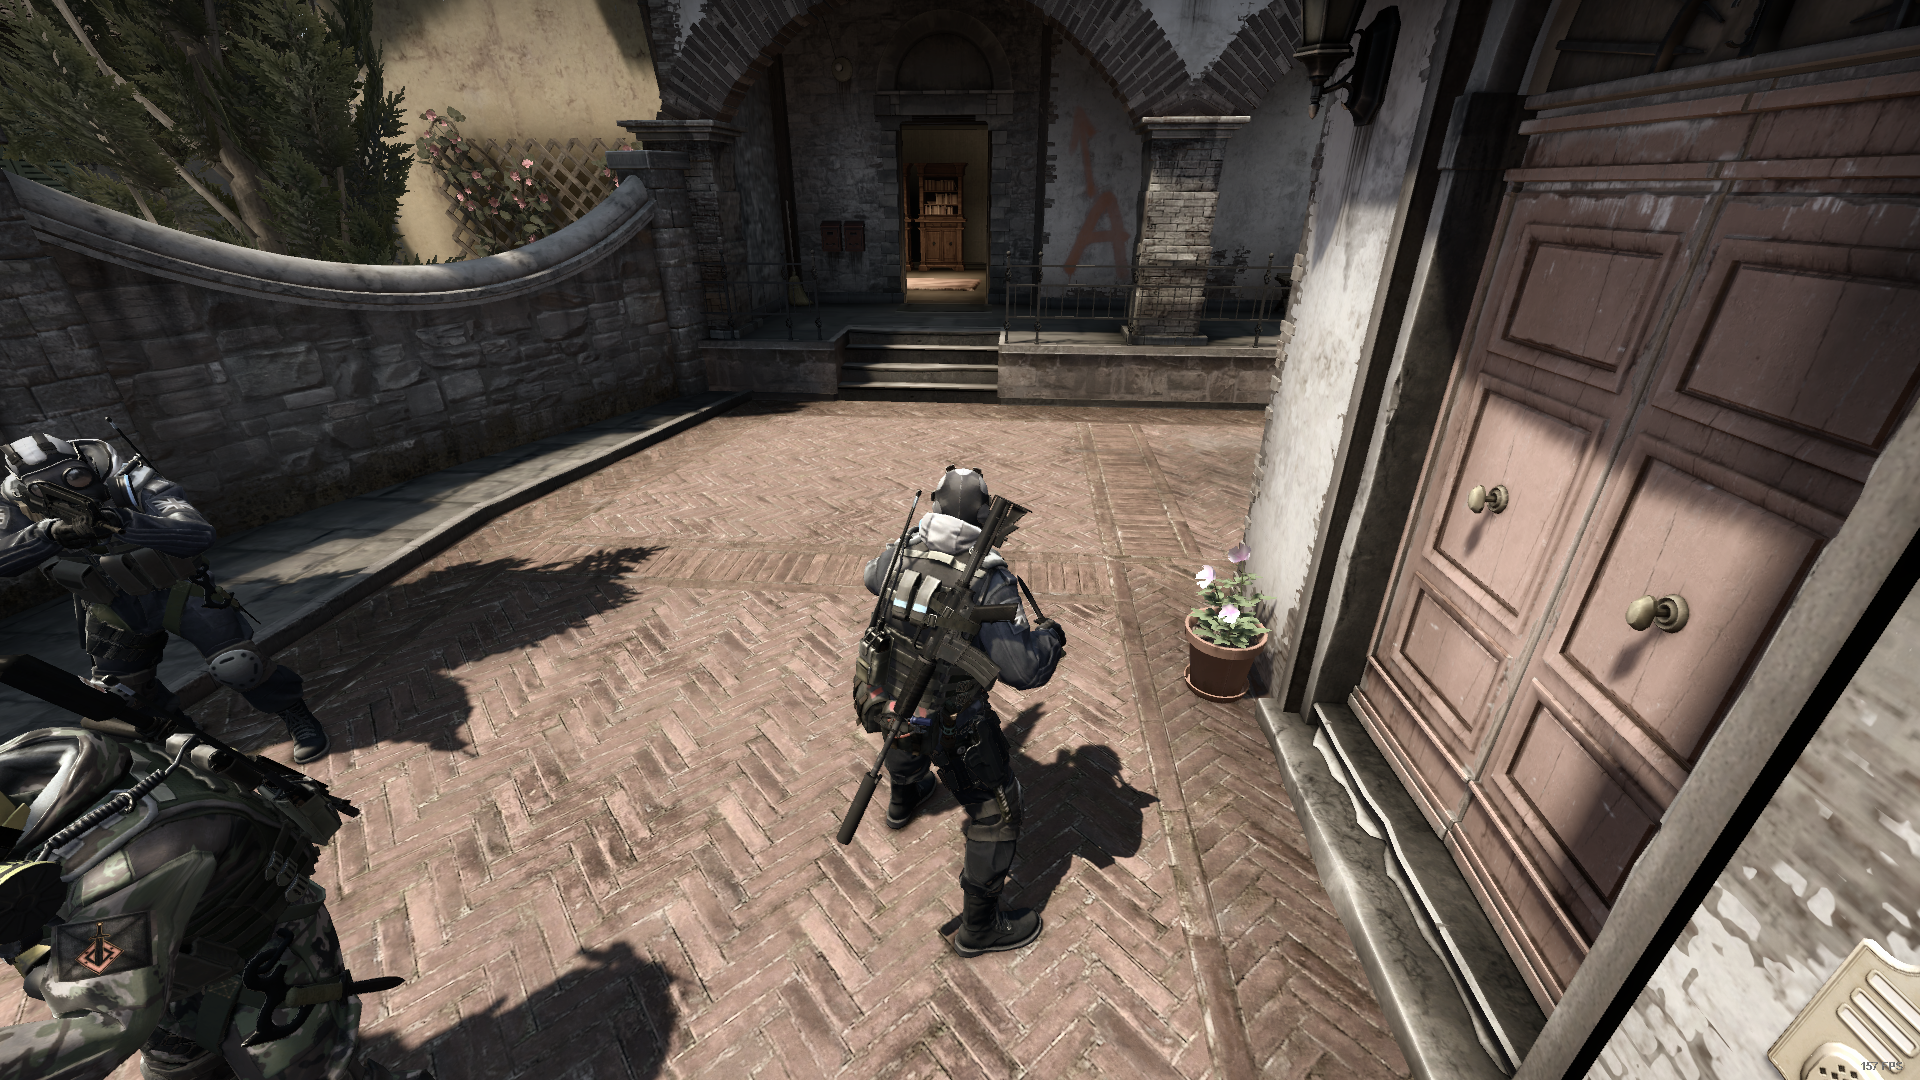ct: (856, 444, 1081, 976), (11, 423, 328, 767)
